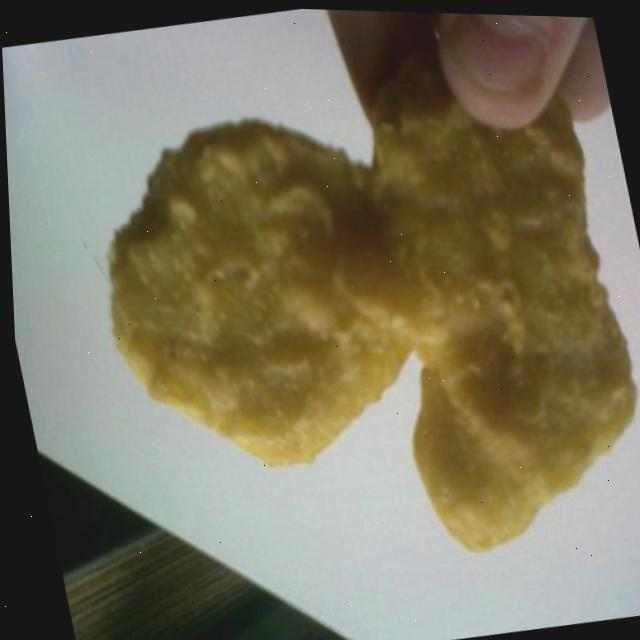鸡肉料理 含炸鸡: (49, 1, 640, 605)
